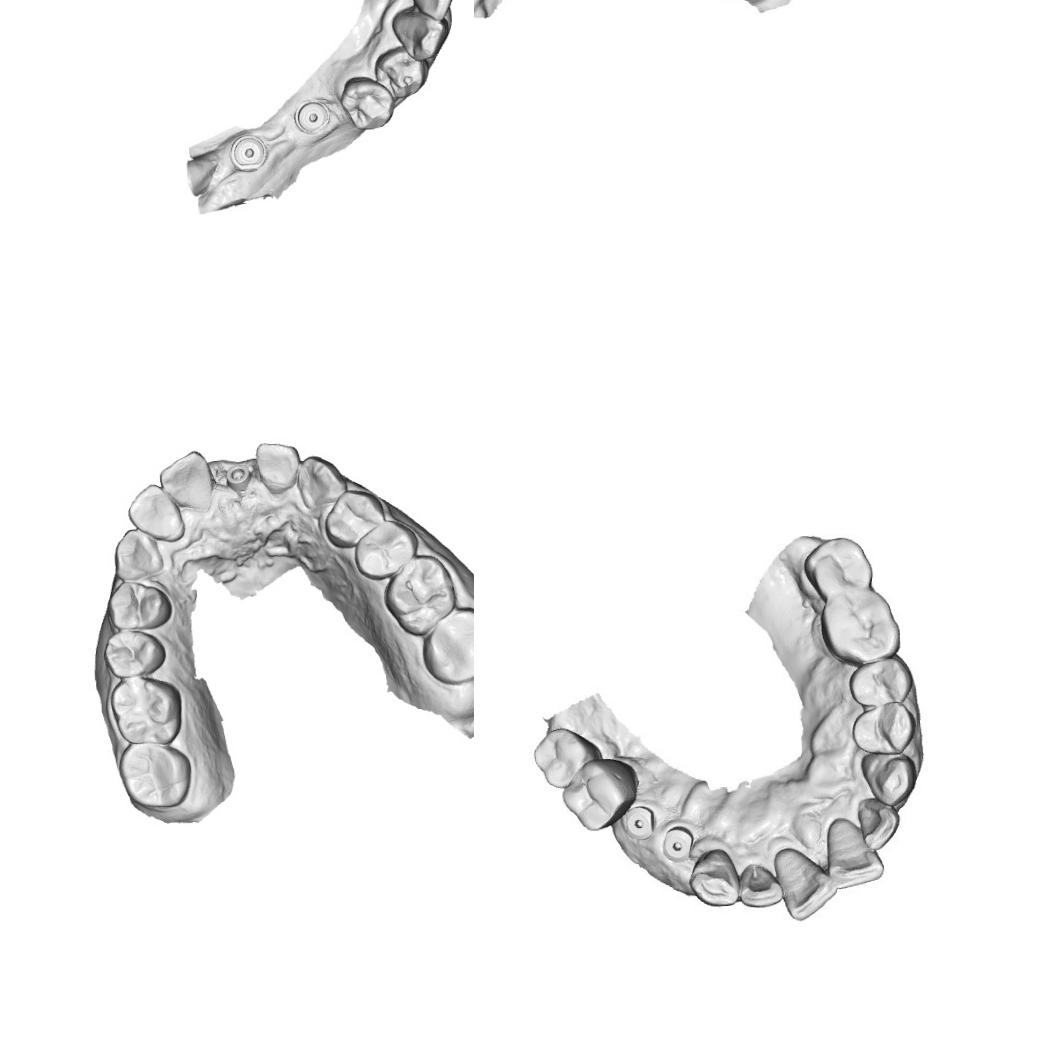canine: (387, 5, 450, 65), (864, 746, 920, 812), (689, 850, 746, 910), (295, 454, 348, 510), (112, 528, 166, 582)
implant: (226, 128, 272, 175), (290, 98, 334, 140), (660, 828, 692, 864), (622, 805, 652, 837), (224, 464, 252, 492)
incisor: (822, 816, 887, 891), (771, 844, 834, 921), (126, 482, 186, 544), (157, 449, 216, 511), (254, 440, 301, 495), (740, 861, 782, 914), (854, 798, 898, 848), (404, 0, 459, 21)
molar: (381, 552, 457, 637), (824, 586, 898, 662), (107, 676, 183, 746), (117, 740, 192, 809), (563, 760, 628, 829), (419, 605, 474, 686), (809, 537, 874, 596), (531, 728, 586, 788)
premolar: (352, 518, 420, 581), (323, 488, 386, 549), (338, 69, 396, 134), (367, 44, 427, 104), (851, 704, 914, 759), (102, 628, 166, 679), (107, 580, 172, 630), (855, 656, 913, 709)
